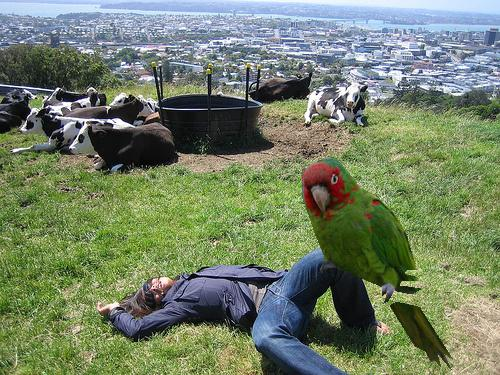tampered: (303, 158, 453, 371)
